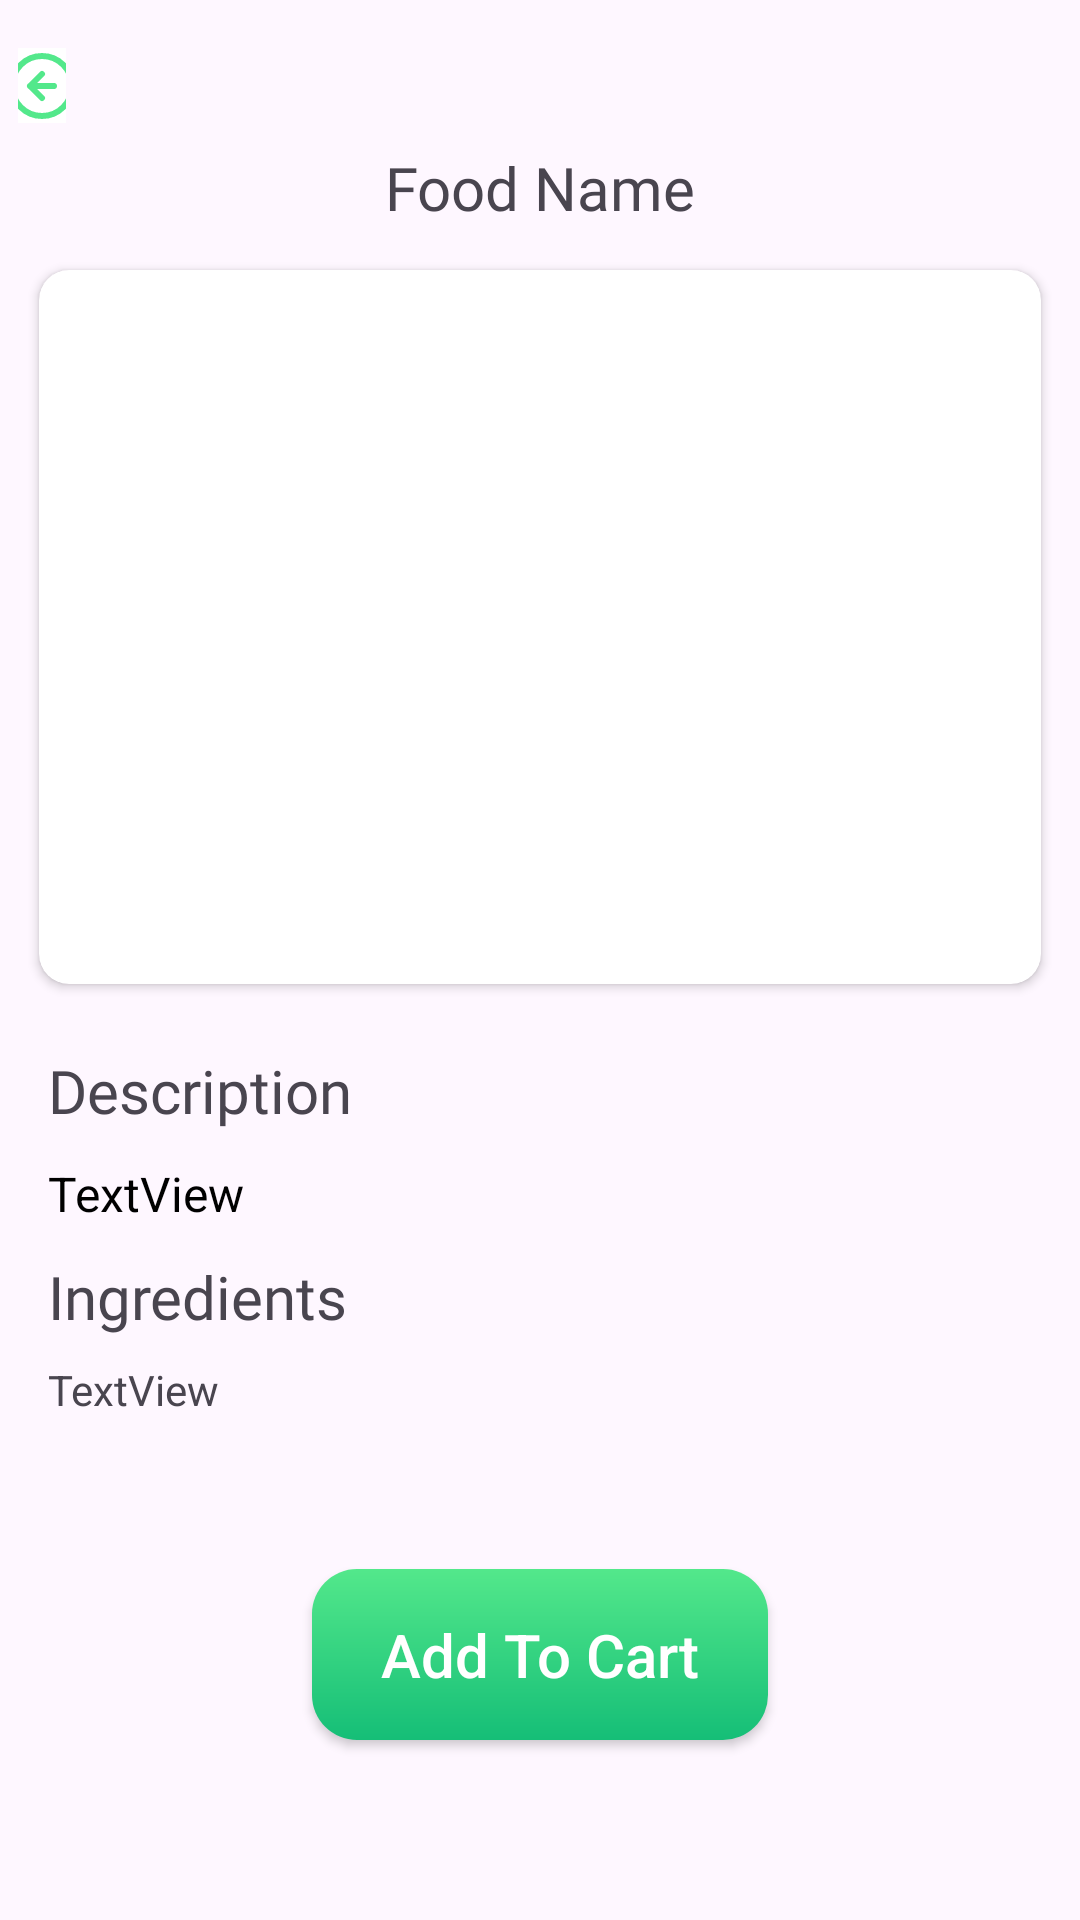

Where to tap for icons on this 1080x1920 app screen, as (x=x, y=y):
arrow left: (x=42, y=86)
